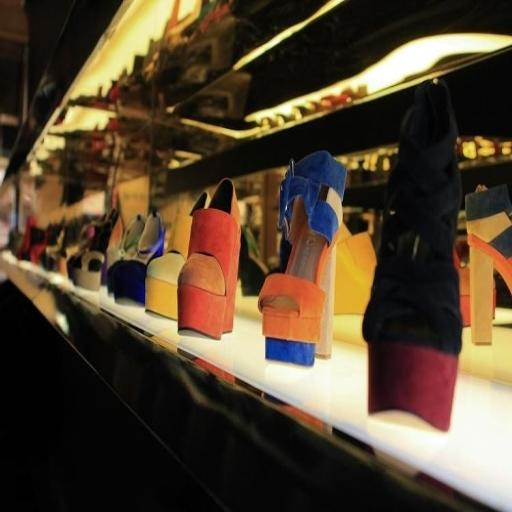heels: (363, 79, 462, 430), (258, 150, 346, 366), (178, 178, 240, 339), (146, 190, 210, 320), (465, 184, 512, 344), (111, 209, 165, 306), (334, 222, 377, 316), (71, 208, 119, 291), (106, 214, 146, 294), (238, 225, 269, 296)
